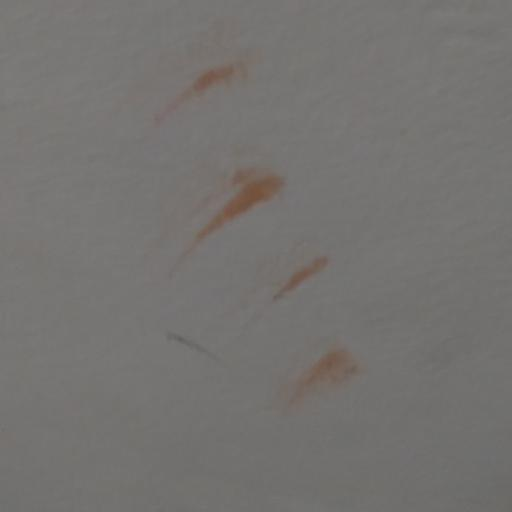stain: (134, 31, 370, 439)
